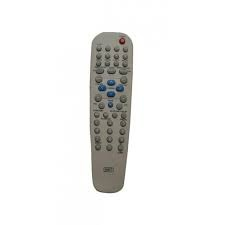remote control: (86, 28, 135, 194)
